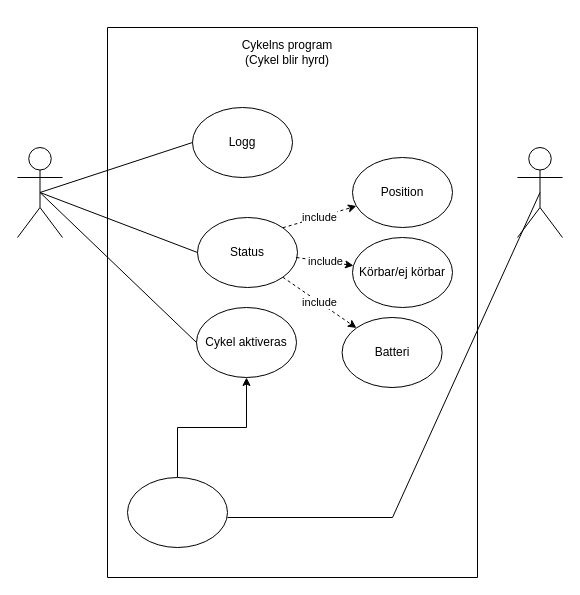
This 580x595 diagram has some shape labels left out. The box of each missing label's shape, as (x1, y1, x2, y2) in pixels:
Cykel: (16, 146, 62, 238)
Kund: (516, 146, 562, 238)
Kund hyr cykel: (126, 476, 228, 548)
